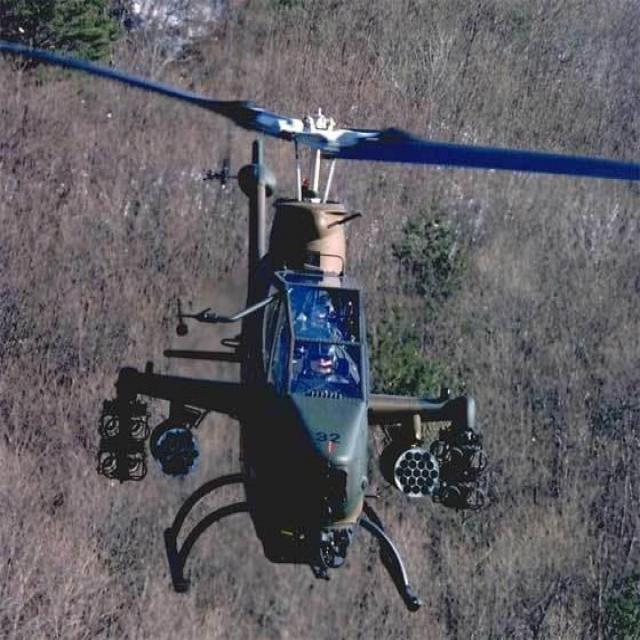MIL_HELO: (0, 36, 640, 611)
